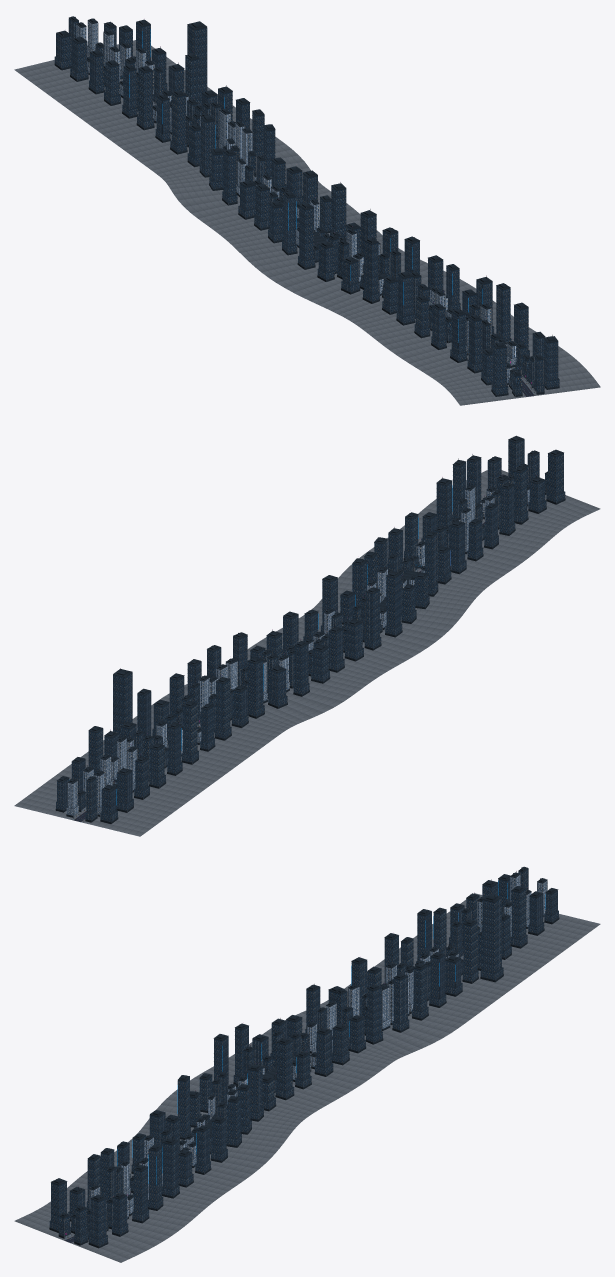
Rendered from night-city.glb.
3 views of the same model, one above another, from view 1: azimuth 30°, elevation 25°; view 2: azimuth 150°, elevation 25°; view 3: azimuth 330°, elevation 25° (orthographic).
Visible parts, largest first — view 1: boss_01_Office windows, city_01_Office windows, city_00_Office windows, city_04_Office windows, city_00_Concrete paving, city_05_Office windows, city_03_Office windows, city_08_Office windows, boss_00_Office windows, city_06_Office windows, city_02_Office windows, city_09_Office windows (+33 smaller); view 2: boss_01_Office windows, boss_00_Office windows, city_01_Office windows, city_06_Office windows, boss_03_Concrete paving, city_00_Office windows, city_03_Office windows, city_08_Office windows, city_05_Office windows, boss_03_Office windows, city_09_Office windows, boss_02_Office windows (+33 smaller); view 3: boss_01_Office windows, city_00_Office windows, city_01_Office windows, city_06_Office windows, city_08_Office windows, city_00_Concrete paving, city_09_Office windows, city_05_Office windows, city_04_Office windows, boss_00_Office windows, city_07_Office windows, city_03_Office windows (+32 smaller).
Part boxes in pixels (<box>): boss_01_Office windows: <box>122,25,207,128</box>; city_01_Office windows: <box>450,286,529,371</box>; city_00_Office windows: <box>481,334,559,394</box>; city_04_Office windows: <box>341,231,419,301</box>; city_00_Concrete paving: <box>441,344,600,405</box>; city_05_Office windows: <box>298,206,376,279</box>; city_03_Office windows: <box>382,259,460,323</box>; city_08_Office windows: <box>209,127,286,203</box>; boss_00_Office windows: <box>155,90,232,152</box>; city_06_Office windows: <box>268,186,346,252</box>; city_02_Office windows: <box>414,280,494,347</box>; city_09_Office windows: <box>187,101,264,175</box>; boss_01_Office windows: <box>113,673,198,773</box>; boss_00_Office windows: <box>152,677,231,749</box>; city_01_Office windows: <box>452,458,528,533</box>; city_06_Office windows: <box>303,578,381,659</box>; boss_03_Concrete paving: <box>14,777,172,836</box>; city_00_Office windows: <box>486,440,565,511</box>; city_03_Office windows: <box>387,515,466,582</box>; city_08_Office windows: <box>233,636,309,706</box>; city_05_Office windows: <box>340,561,416,635</box>; boss_03_Office windows: <box>56,760,133,821</box>; city_09_Office windows: <box>187,648,264,725</box>; boss_02_Office windows: <box>88,729,165,797</box>; boss_01_Office windows: <box>416,898,503,981</box>; city_00_Office windows: <box>49,1182,128,1246</box>; city_01_Office windows: <box>86,1147,163,1221</box>; city_06_Office windows: <box>233,1026,311,1097</box>; city_08_Office windows: <box>305,988,382,1051</box>; city_00_Concrete paving: <box>14,1187,170,1262</box>; city_09_Office windows: <box>351,961,428,1030</box>; city_05_Office windows: <box>199,1037,275,1119</box>; city_04_Office windows: <box>177,1077,251,1145</box>; boss_00_Office windows: <box>384,936,462,1005</box>; city_07_Office windows: <box>270,1018,349,1074</box>; city_03_Office windows: <box>149,1113,227,1172</box>.
Size of the model in its own units: 470 by 254 by 2564.
7 materials, 7 textured.
